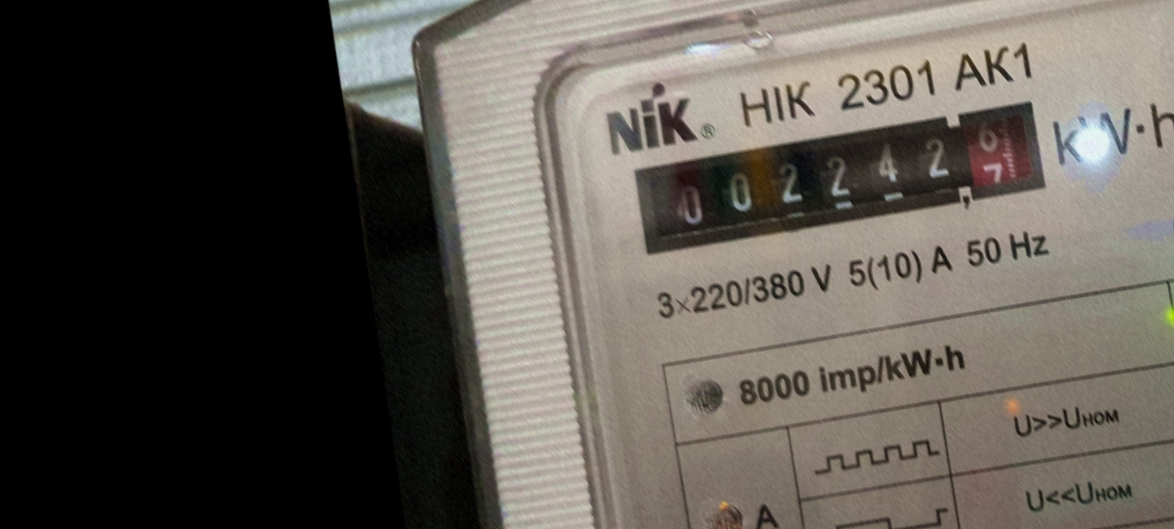0: (727, 166, 758, 212), (778, 157, 808, 203), (680, 179, 708, 226)
2: (923, 132, 954, 179), (826, 150, 856, 197)
4: (874, 138, 904, 184)
6: (976, 116, 1005, 152)
7: (983, 158, 1009, 184)
screen: (624, 86, 1068, 269)
